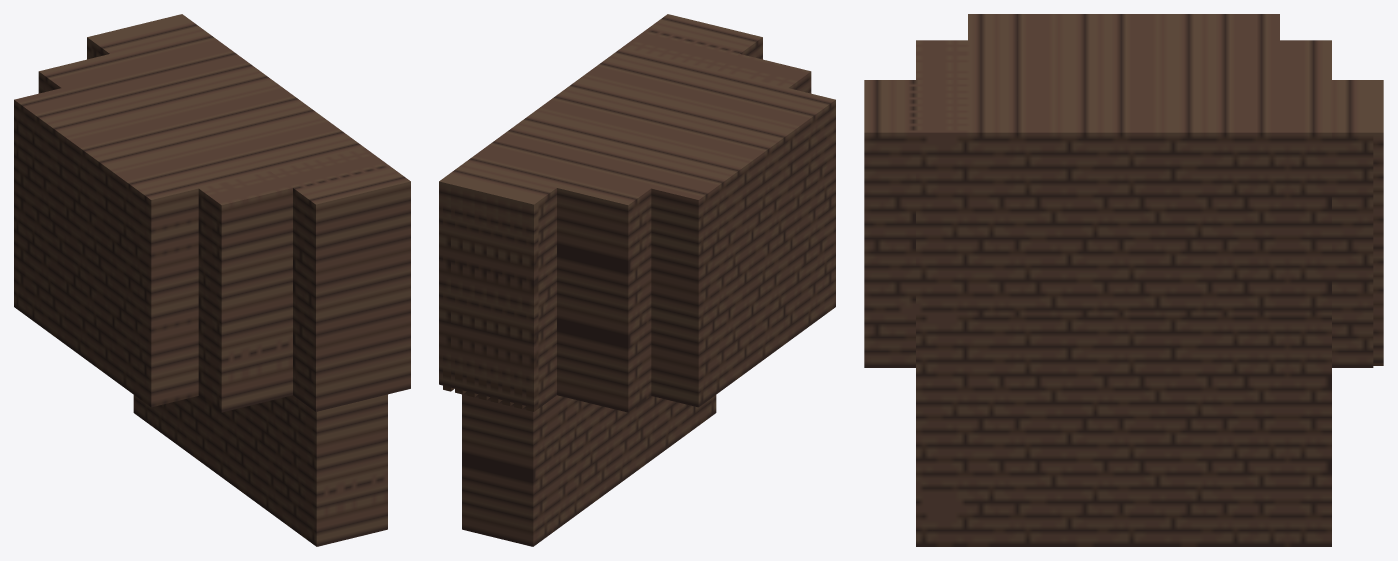
The model's file is Ship_FrontBottom_00.fbx.
The picture shows the model from 3 angles, left to right: view 1: azimuth 30°, elevation 25°; view 2: azimuth 150°, elevation 25°; view 3: azimuth 270°, elevation 25°; orthographic projection. The views are drawn at different scales.
Parts seen in each view (by area): view 1: Ship_FrontBottom_00; view 2: Ship_FrontBottom_00; view 3: Ship_FrontBottom_00.
Boxes of the visible parts, box(x1,y1,x2,y2) form: Ship_FrontBottom_00: box(14, 14, 410, 546); Ship_FrontBottom_00: box(439, 14, 835, 546); Ship_FrontBottom_00: box(864, 14, 1383, 546).
Bounding box in the file's own units: 270 × 440 × 500.
